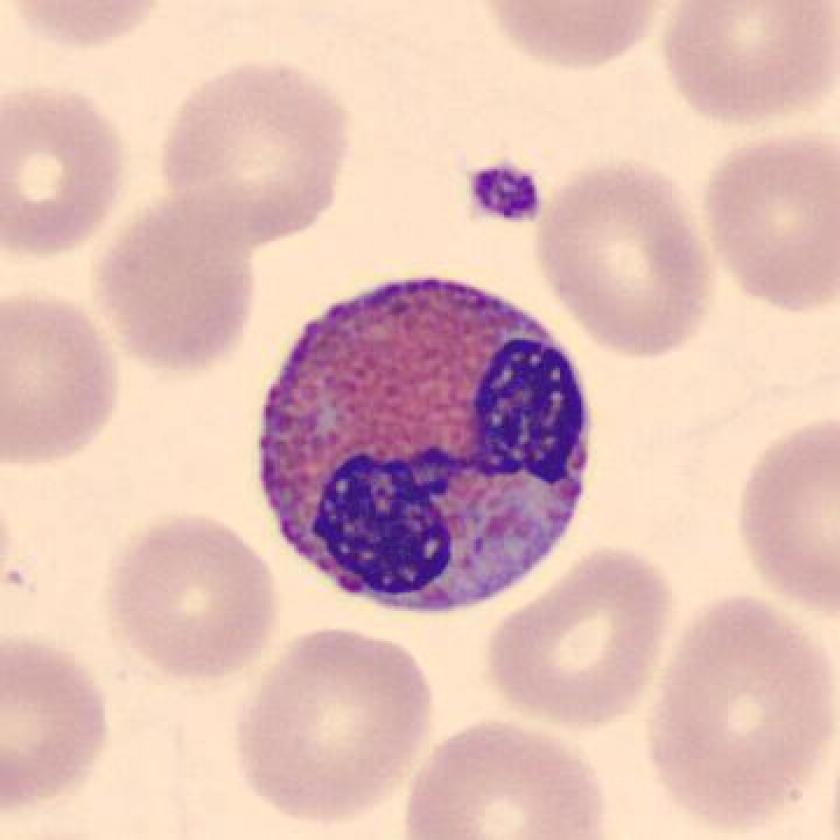eosinophil: (253, 267, 603, 624)
